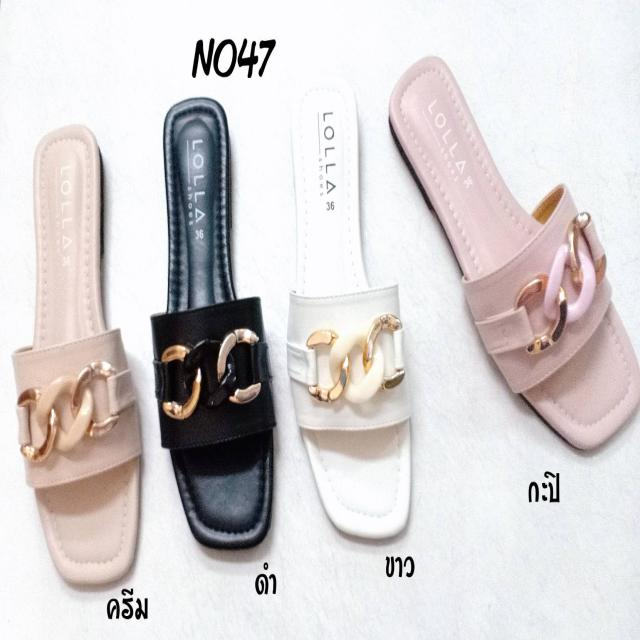black: (157, 94, 277, 528)
cream: (30, 124, 142, 578)
kapi: (391, 54, 640, 450)
white: (294, 83, 409, 539)
